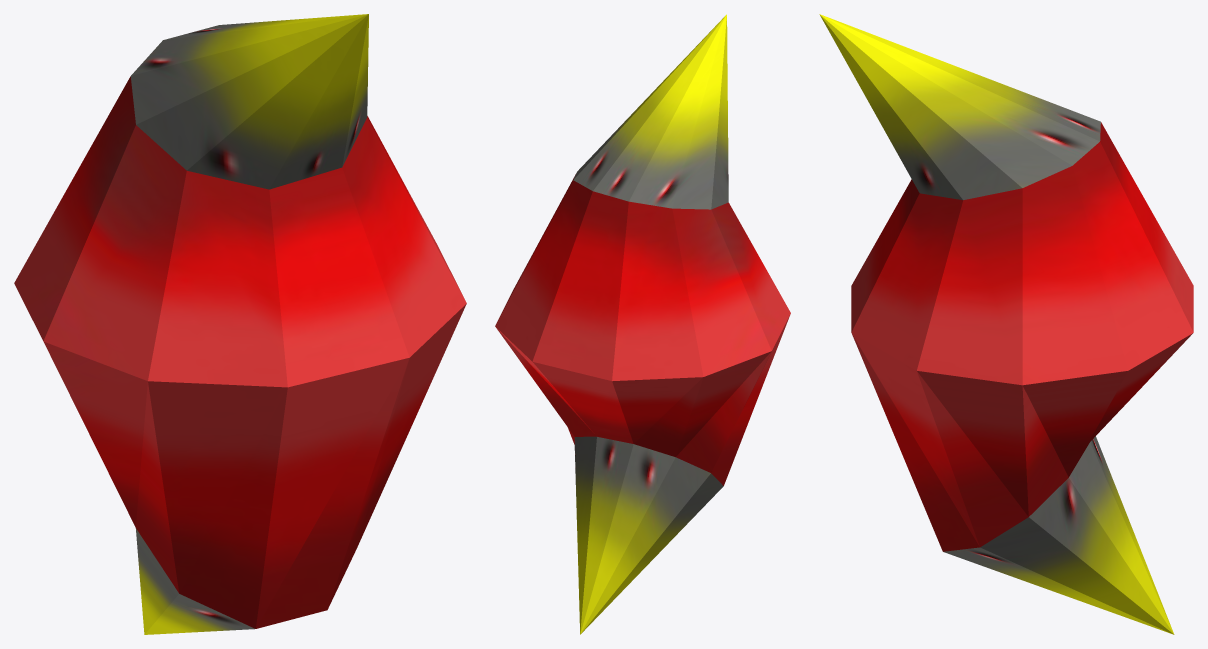
File: rocket__zinger.glb
3 views of the same model, side by side, from view 1: azimuth 30°, elevation 25°; view 2: azimuth 150°, elevation 25°; view 3: azimuth 270°, elevation 25° (orthographic). The views are drawn at different scales.
Parts seen in each view (by area): view 1: zing2; view 2: zing2; view 3: zing2.
Part boxes in pixels (x1,y1,x2,y2): zing2: (14, 14, 466, 634); zing2: (495, 14, 790, 634); zing2: (819, 14, 1193, 634).
Bounding box in the file's own units: 2 × 3.81 × 2.08.
1 material, 1 textured.
